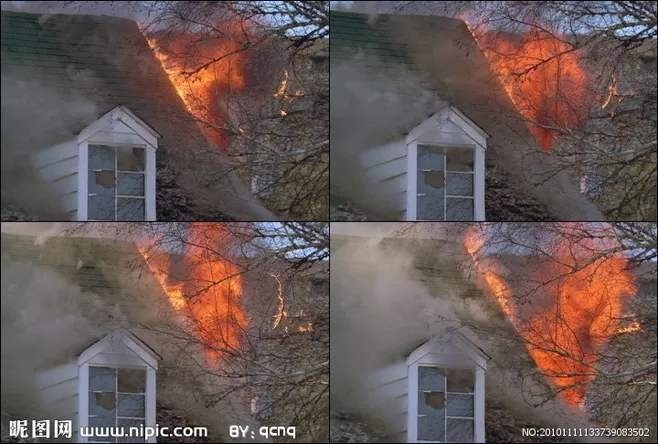fire: (457, 229, 642, 411), (138, 225, 259, 360), (473, 9, 590, 142), (140, 21, 256, 113), (271, 67, 299, 107)
